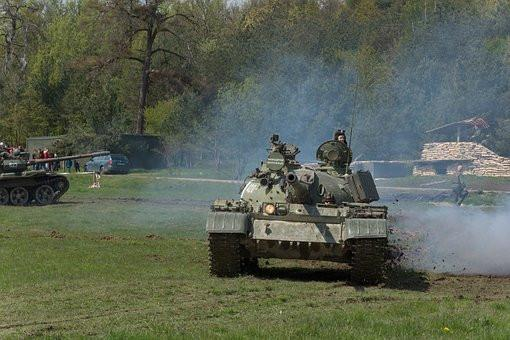tank: (206, 139, 389, 282), (0, 152, 107, 207)
